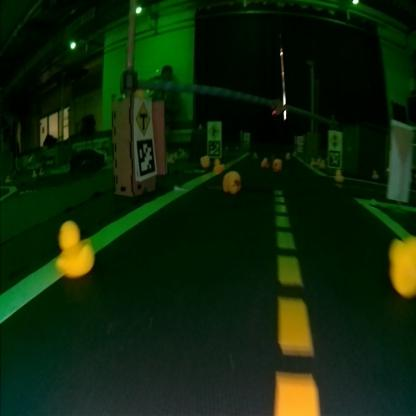Duckie: (58, 219, 96, 276), (390, 236, 416, 294), (224, 170, 241, 191), (214, 158, 222, 172), (273, 158, 283, 168), (202, 155, 210, 167), (337, 171, 343, 181), (373, 170, 379, 178), (262, 158, 266, 166)
Intersection sign: (135, 102, 153, 134), (210, 122, 221, 138)
QR code: (136, 136, 158, 174), (328, 149, 342, 167), (210, 139, 223, 157)
Signal sign: (330, 132, 341, 147)
